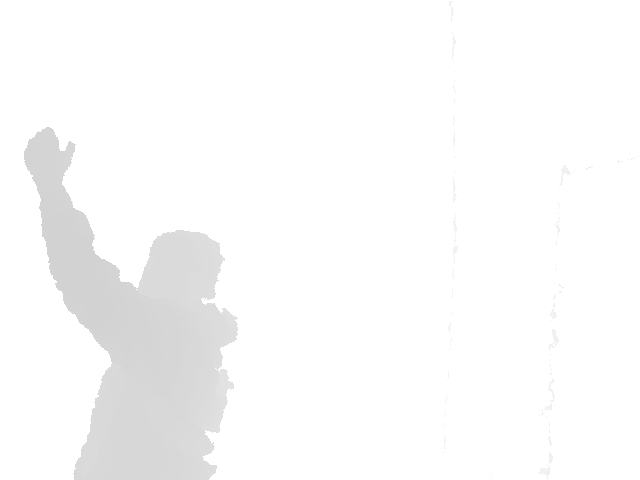hand: (23, 126, 77, 183)
head: (135, 228, 225, 319)
person: (23, 126, 240, 480)
